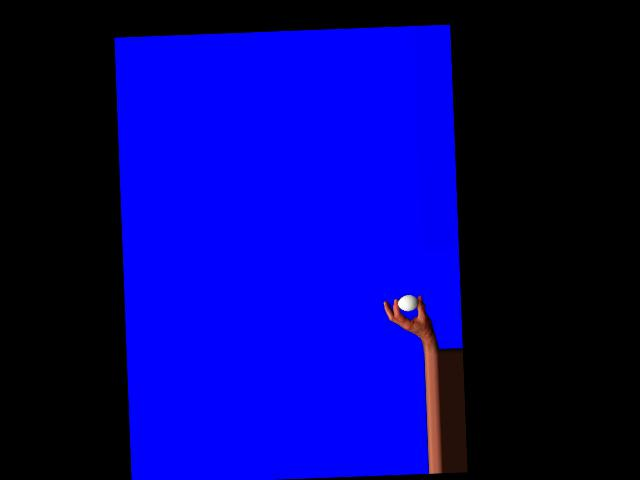egg: (397, 294, 418, 311)
